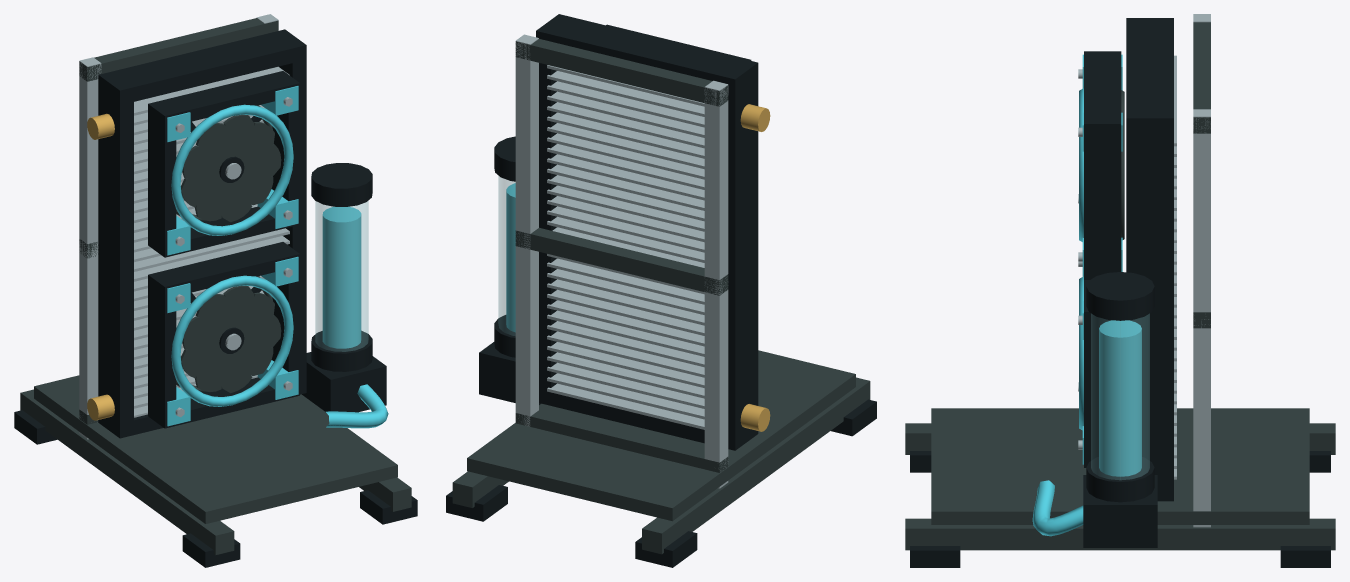
File: cooling-liquid.glb
The picture shows the model from 3 angles, left to right: view 1: azimuth 30°, elevation 25°; view 2: azimuth 150°, elevation 25°; view 3: azimuth 270°, elevation 25°; orthographic projection. The views are drawn at different scales.
Parts seen in each view (by area): view 1: Rubber and ABS (×4), Anodized graphite (×3), Coolant blue (×3), Brushed aluminium, cooling-liquid, Contacts, fan-rotor (×2); view 2: Brushed aluminium, Anodized graphite, Rubber and ABS (×2), cooling-liquid, Coolant blue, Contacts; view 3: Anodized graphite, Rubber and ABS (×4), Coolant blue (×3), cooling-liquid, Brushed aluminium, fan-pressure-140.
Boxes of the visible parts, left/top/right/bottom form: Rubber and ABS (×4): left=14, top=29, right=417, bottom=567; Anodized graphite (×3): left=20, top=18, right=411, bottom=554; Coolant blue (×3): left=167, top=86, right=388, bottom=428; Brushed aluminium: left=79, top=14, right=289, bottom=439; cooling-liquid: left=315, top=201, right=368, bottom=351; Contacts: left=87, top=113, right=114, bottom=420; fan-rotor (×2): left=219, top=156, right=244, bottom=353; Brushed aluminium: left=515, top=34, right=728, bottom=488; Anodized graphite: left=452, top=39, right=870, bottom=554; Rubber and ABS (×2): left=446, top=14, right=876, bottom=567; cooling-liquid: left=498, top=176, right=515, bottom=335; Coolant blue: left=506, top=183, right=515, bottom=332; Contacts: left=740, top=104, right=770, bottom=431; Anodized graphite: left=905, top=22, right=1335, bottom=550; Rubber and ABS (×4): left=910, top=18, right=1330, bottom=567; Coolant blue (×3): left=1032, top=54, right=1141, bottom=536; cooling-liquid: left=1091, top=313, right=1149, bottom=479; Brushed aluminium: left=1174, top=14, right=1210, bottom=527; fan-pressure-140: left=1121, top=90, right=1124, bottom=239.
Bounding box in the file's own units: 2.26 × 3.32 × 2.9.
